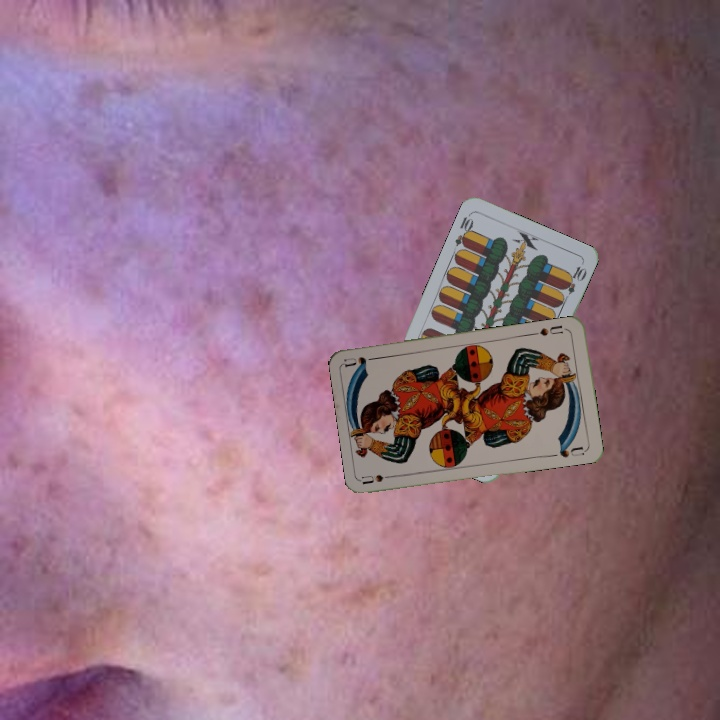E10: (451, 209, 476, 250)
SU: (359, 470, 400, 487), (536, 321, 570, 338)
